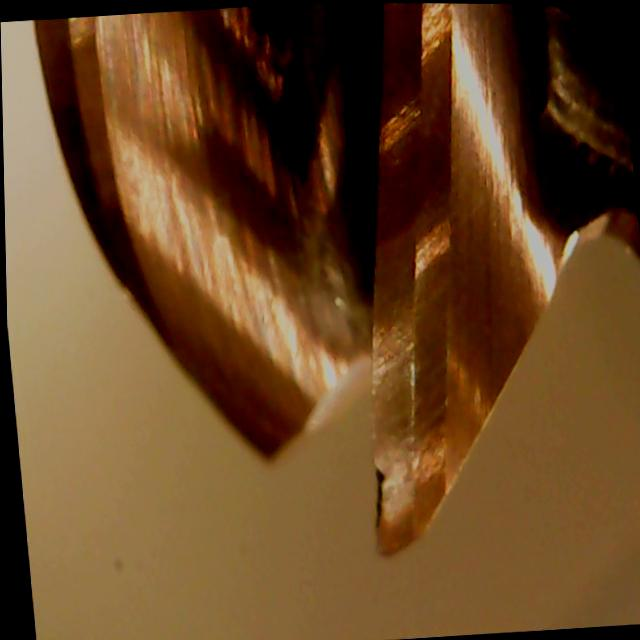Tool-wear-class-1: (331, 321, 464, 562)
